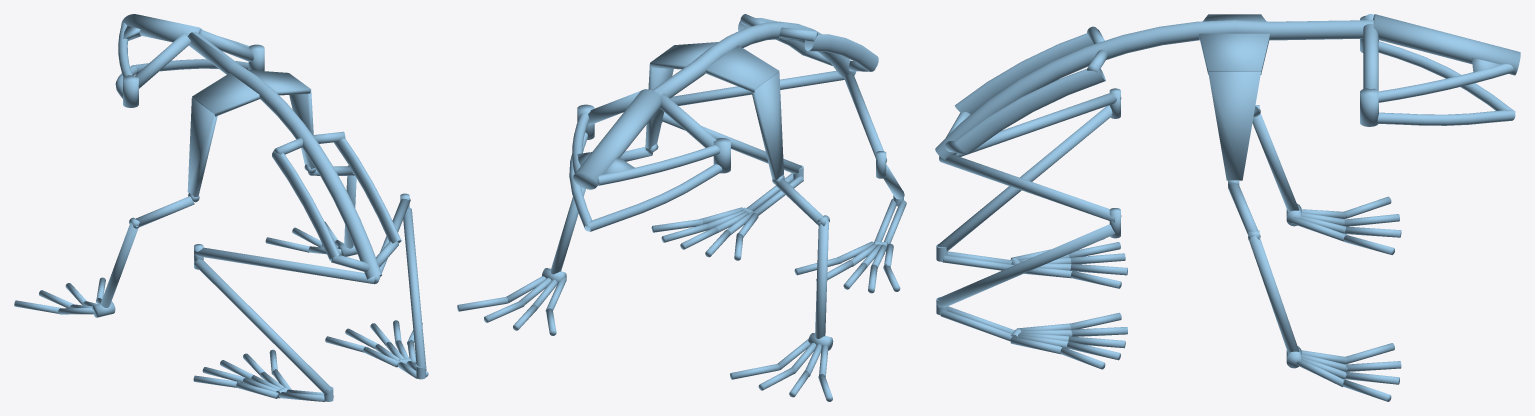
Rendered from skeleton_3.glb.
3 views of the same model, side by side, from view 1: azimuth 30°, elevation 25°; view 2: azimuth 150°, elevation 25°; view 3: azimuth 270°, elevation 25° (orthographic). The views are drawn at different scales.
Visible parts, largest first — view 1: Vertebral Column, Tibiofibula, Scapula.001, Femur, Suprascapula.001, Tibiofibula.001, Ilium Right.001, Ilium Right, Skull, Suprascapula, Radioulna.001, Cylinder.013 (+10 smaller); view 2: Vertebral Column, Skull, Scapula.001, Suprascapula.001, Lower Jaw L, Femur.001, Torus.004, Ilium Right.001, Radioulna.001, Suprascapula, Cylinder.013, Femur (+9 smaller); view 3: Vertebral Column, Scapula, Skull, Ilium Right, Suprascapula, Tibiofibula, Tibiofibula.001, Ilium Right.001, Femur.001, Femur, Lower Jaw R, Torus.001 (+8 smaller).
Part boxes in pixels (x1,y1,x2,y2): Vertebral Column: (188, 31, 381, 279); Tibiofibula: (194, 259, 331, 395); Scapula.001: (187, 98, 217, 196); Femur: (194, 247, 374, 284); Suprascapula.001: (192, 73, 260, 116); Tibiofibula.001: (403, 207, 426, 370); Ilium Right.001: (272, 150, 340, 260); Ilium Right: (334, 138, 401, 243); Skull: (121, 14, 202, 42); Suprascapula: (248, 70, 311, 95); Radioulna.001: (100, 222, 138, 307); Cylinder.013: (135, 33, 190, 88); Vertebral Column: (652, 21, 856, 98); Skull: (573, 89, 660, 189); Scapula.001: (751, 72, 783, 179); Suprascapula.001: (705, 45, 779, 92); Lower Jaw L: (586, 164, 722, 231); Femur.001: (670, 70, 844, 105); Torus.004: (598, 145, 720, 185); Ilium Right.001: (804, 34, 878, 71); Radioulna.001: (815, 221, 828, 338); Suprascapula: (650, 42, 718, 69); Cylinder.013: (660, 93, 720, 156); Femur: (844, 73, 886, 162); Vertebral Column: (935, 20, 1373, 159); Scapula: (1208, 72, 1260, 180); Skull: (1373, 14, 1520, 75); Ilium Right: (955, 65, 1105, 153); Suprascapula: (1199, 33, 1269, 74); Tibiofibula: (937, 105, 1112, 251); Tibiofibula.001: (936, 224, 1115, 307); Ilium Right.001: (955, 29, 1102, 114); Femur.001: (939, 155, 1121, 222); Femur: (939, 93, 1121, 156); Lower Jaw R: (1377, 110, 1515, 125); Torus.001: (1378, 64, 1513, 102).
Bounding box in the file's own units: 25.1 × 16.87 × 30.98.
